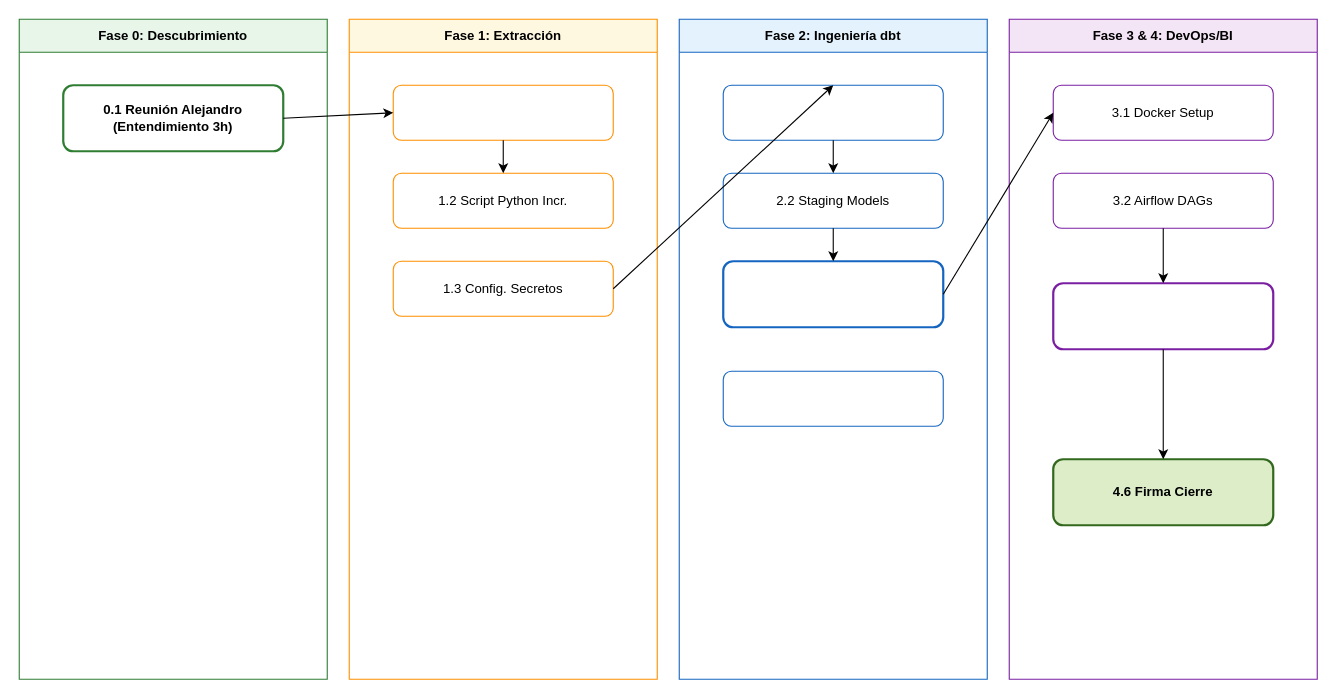
The diagram is 1337 pixels wide and 699 high, and some of its shapes have lost their labels. Each missing label, with the centre of its shape:
"1.1 Mapeo Tabla SQL" goes at pixel 502 112.
"2.1 Config Sources" goes at pixel 832 112.
"2.3 Lógica 16:30" goes at pixel 833 294.
"2.5 dbt Tests" goes at pixel 832 398.
"4.1 Dashboard PBI" goes at pixel 1163 316.
